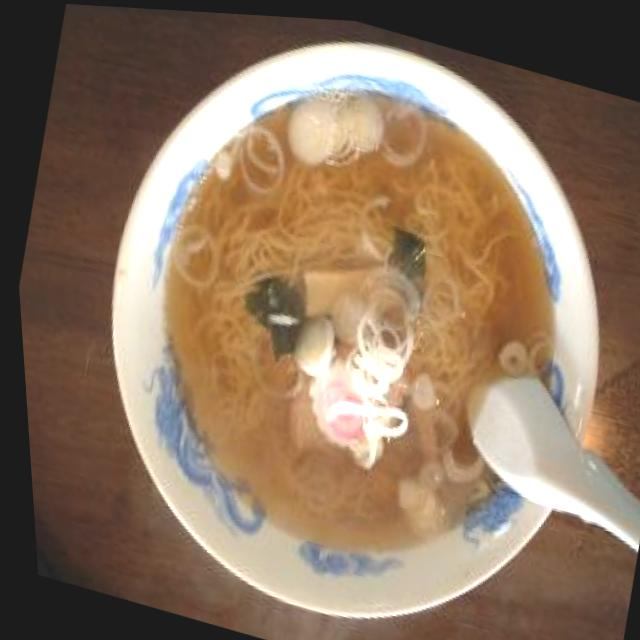面条主食: (31, 1, 640, 640)
